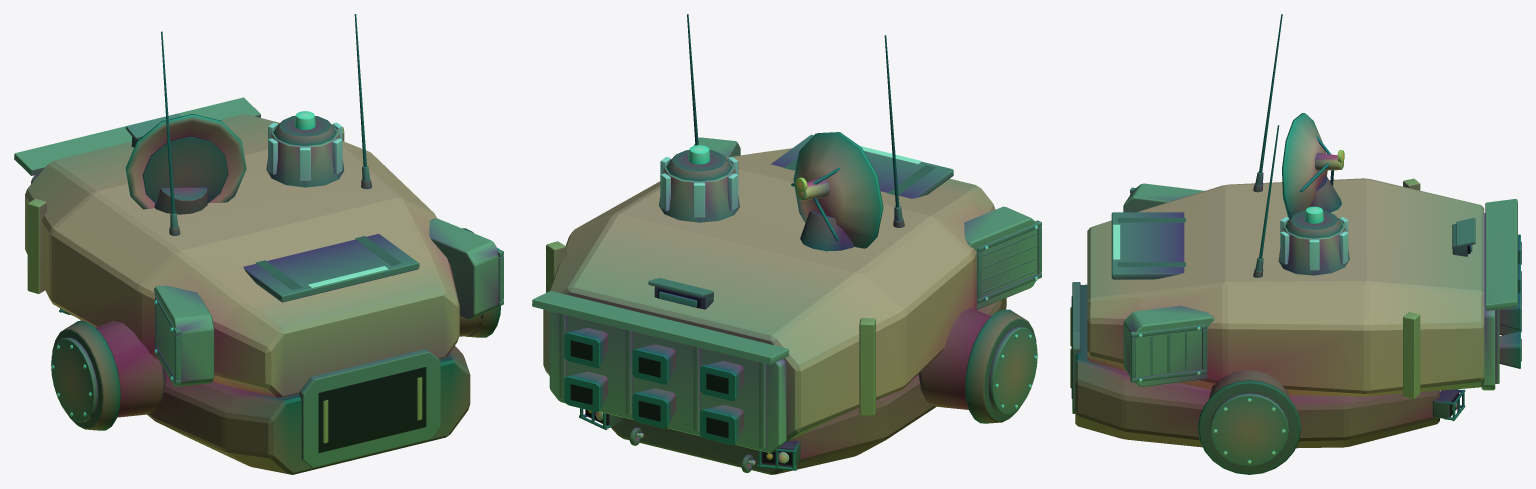
The model's file is core_krasukha_ew.glb.
3 renders of one model, left to right at view 1: azimuth 30°, elevation 25°; view 2: azimuth 150°, elevation 25°; view 3: azimuth 270°, elevation 25°, orthographic. The views are drawn at different scales.
Parts seen in each view (by area): view 1: Body__armor_sub, Body__dark, Body__gunmetal, Body__bore, Body__copper, Body__chrome; view 2: Body__armor_sub, Body__dark, Body__gunmetal, Body__armor, Body__bore, Body__copper, Body__chrome; view 3: Body__armor_sub, Body__dark, Body__gunmetal, Body__copper, Body__chrome, Body__armor.
Part boxes in pixels (x1,y1,x2,y2): Body__armor_sub: [14, 97, 498, 397]; Body__dark: [52, 14, 500, 474]; Body__gunmetal: [51, 113, 503, 467]; Body__bore: [318, 367, 426, 452]; Body__copper: [27, 127, 422, 443]; Body__chrome: [51, 122, 499, 416]; Body__armor_sub: [532, 132, 1037, 448]; Body__dark: [585, 14, 1036, 474]; Body__gunmetal: [564, 134, 1041, 472]; Body__armor: [549, 311, 786, 452]; Body__bore: [570, 289, 792, 464]; Body__copper: [546, 241, 875, 415]; Body__chrome: [636, 157, 1037, 465]; Body__armor_sub: [1087, 113, 1517, 396]; Body__dark: [1075, 14, 1467, 474]; Body__gunmetal: [1072, 134, 1520, 466]; Body__copper: [1070, 178, 1420, 398]; Body__chrome: [1138, 217, 1348, 464]; Body__armor: [1481, 213, 1495, 390].
Bounding box in the file's own units: 2.13 × 1.98 × 2.23.
